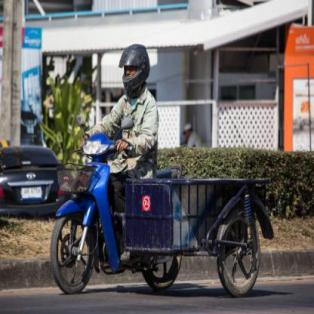Motocicleta: (50, 117, 120, 300)
